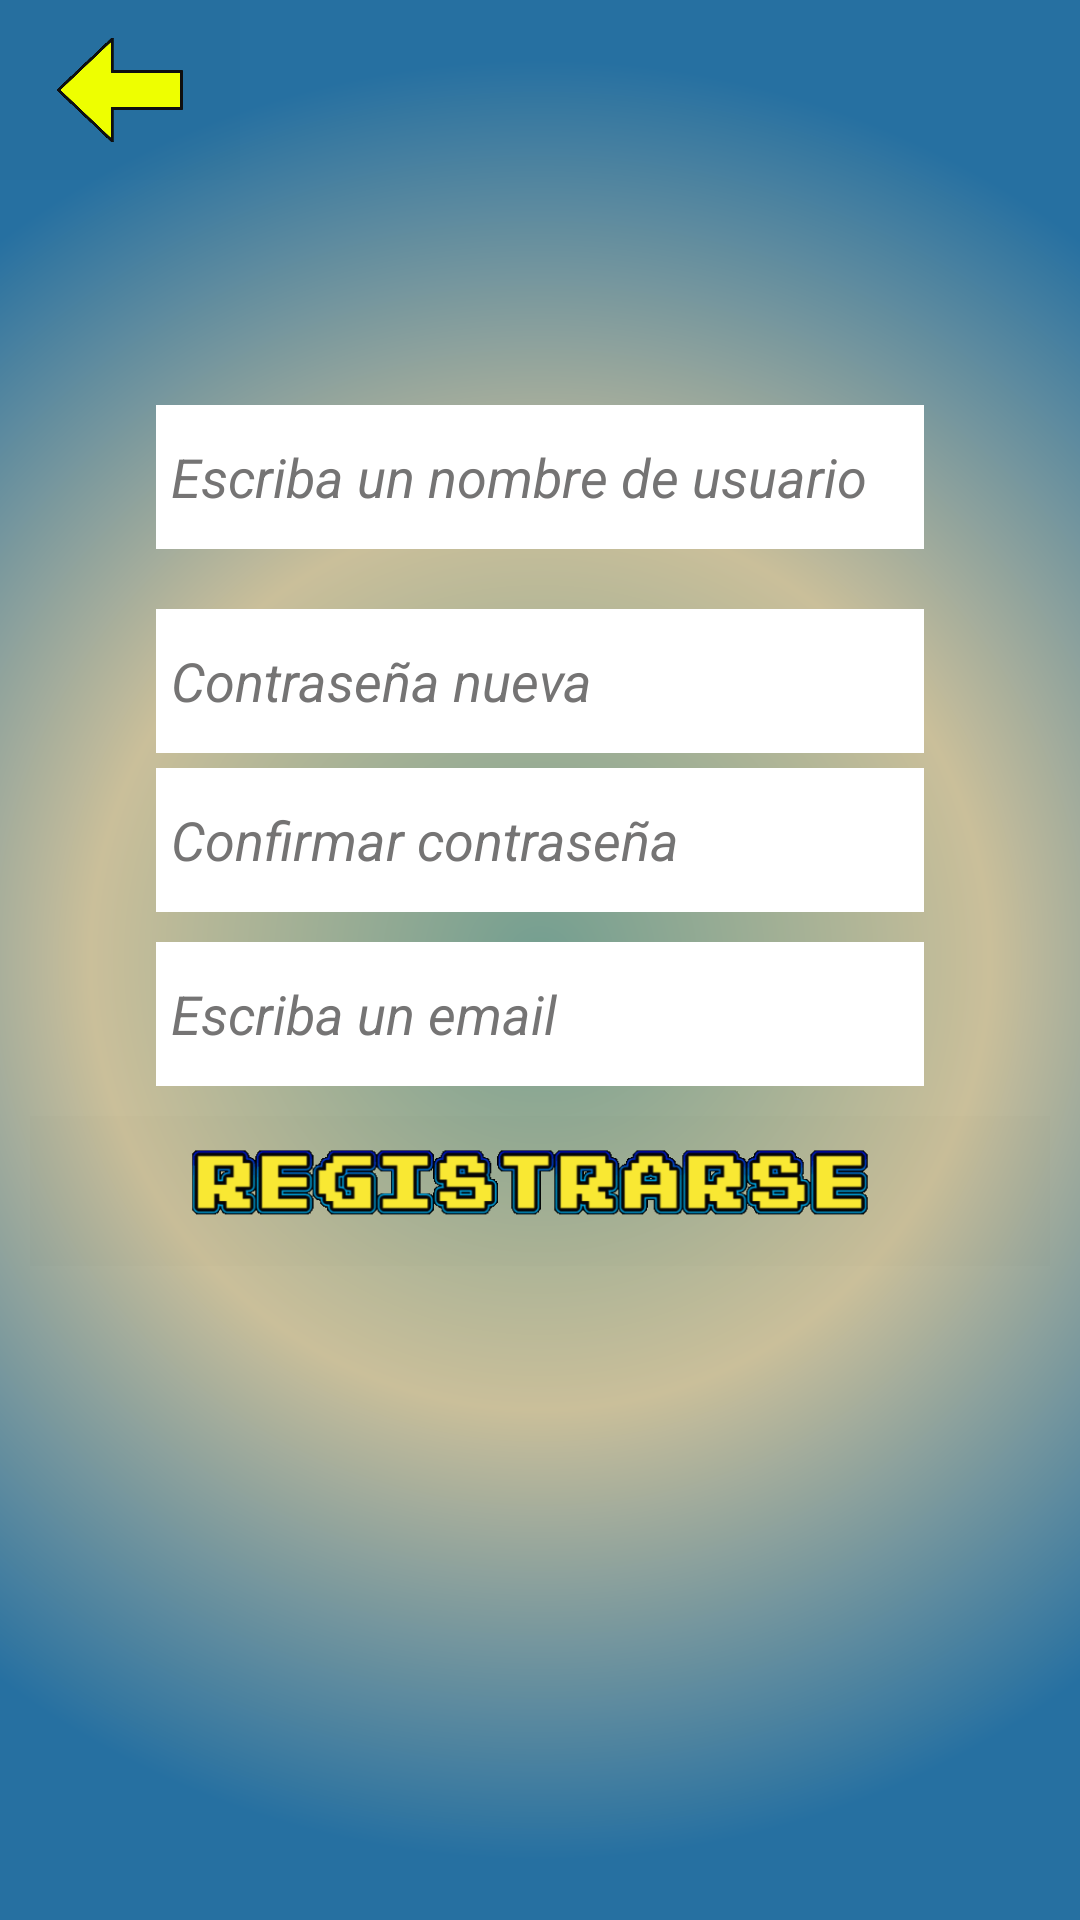

Icon click points for this 1080×1920 phone screenshot, format (x,y):
back: (120,90)
